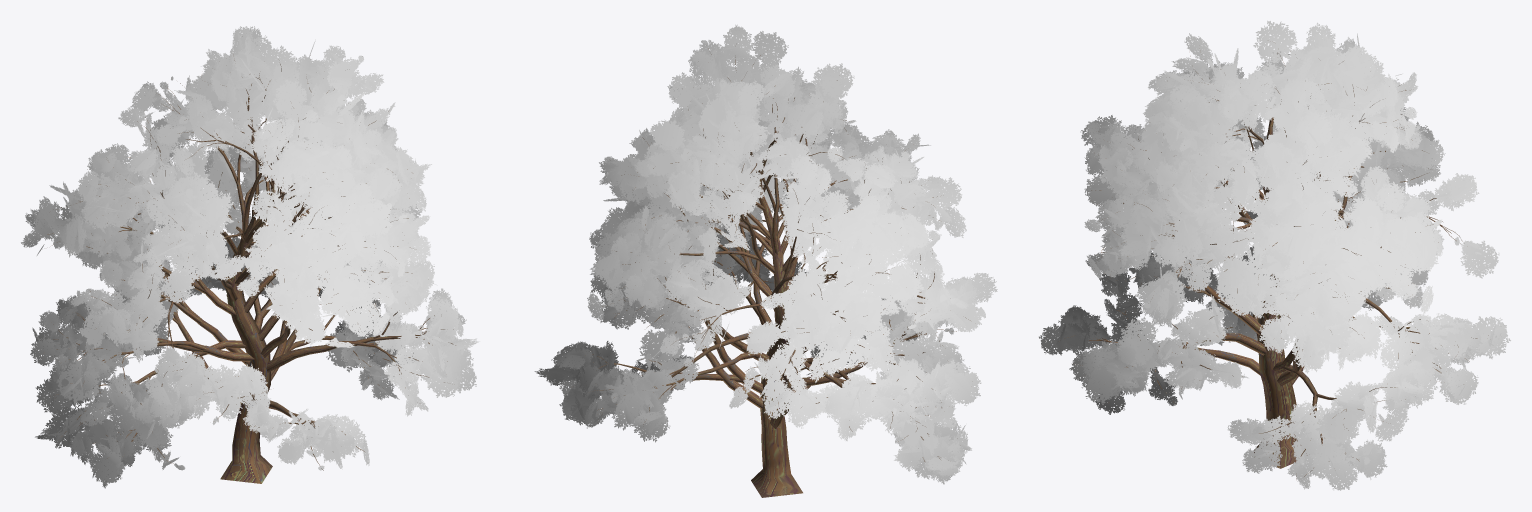
Rendered from SM_TreeBroadleaf_02.fbx.
3 renders of one model, left to right at view 1: azimuth 30°, elevation 25°; view 2: azimuth 150°, elevation 25°; view 3: azimuth 270°, elevation 25°, orthographic. The views are drawn at different scales.
Visible parts, largest first — view 1: Tree_Broad_02_leaf, Tree_Broad_02; view 2: Tree_Broad_02_leaf, Tree_Broad_02; view 3: Tree_Broad_02_leaf, Tree_Broad_02.
Part boxes in pixels (x1=…): Tree_Broad_02_leaf: x1=21, y1=26, x2=479, y2=488; Tree_Broad_02: x1=47, y1=55, x2=455, y2=483; Tree_Broad_02_leaf: x1=534, y1=24, x2=997, y2=484; Tree_Broad_02: x1=585, y1=48, x2=970, y2=497; Tree_Broad_02_leaf: x1=1039, y1=20, x2=1510, y2=490; Tree_Broad_02: x1=1058, y1=51, x2=1488, y2=479.
Size of the model in its own units: 1300 by 1323 by 1301.
